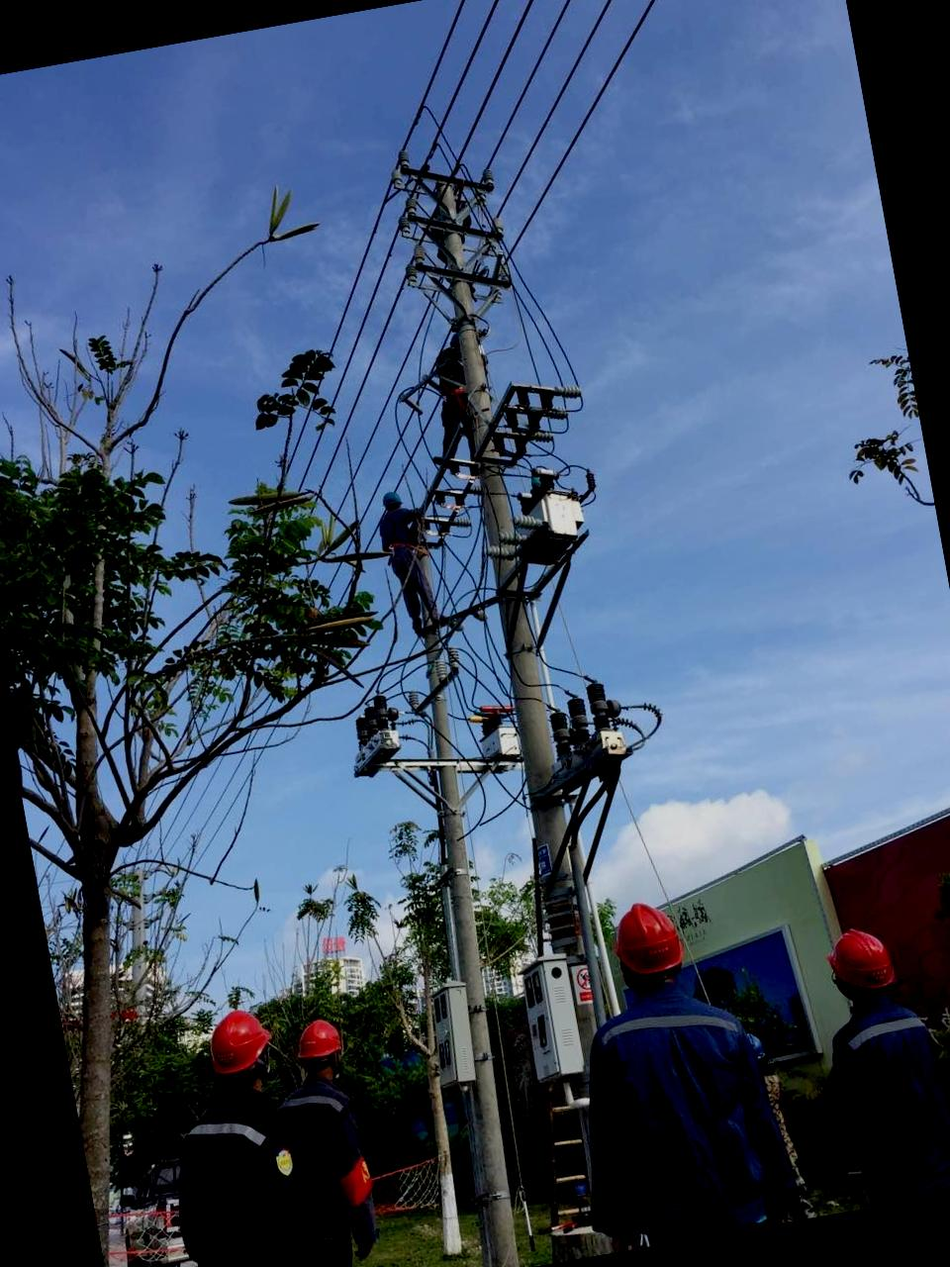helmet: (593, 885, 704, 997), (813, 923, 903, 1011), (196, 1001, 288, 1087), (285, 1004, 357, 1074)
no_vest: (570, 972, 798, 1252), (810, 994, 950, 1209), (160, 1098, 332, 1267)
person: (529, 876, 793, 1257), (128, 998, 328, 1267), (791, 902, 950, 1212), (234, 1001, 414, 1267)
